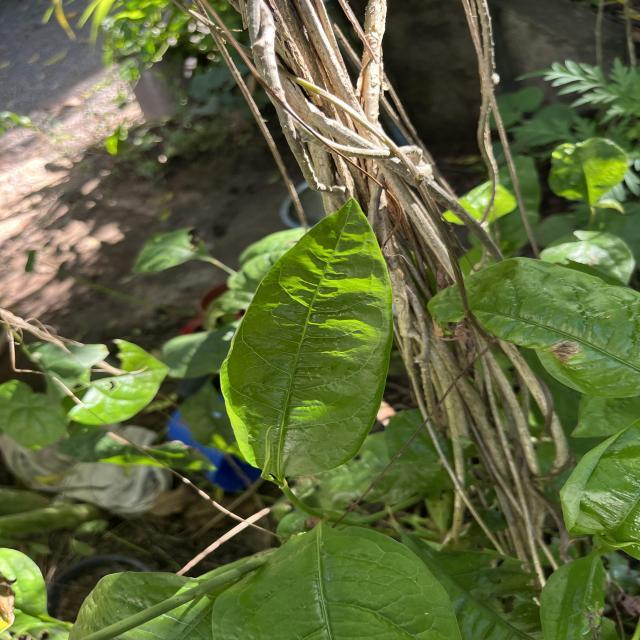Plumbago indica: (217, 191, 400, 491), (421, 247, 640, 403)
